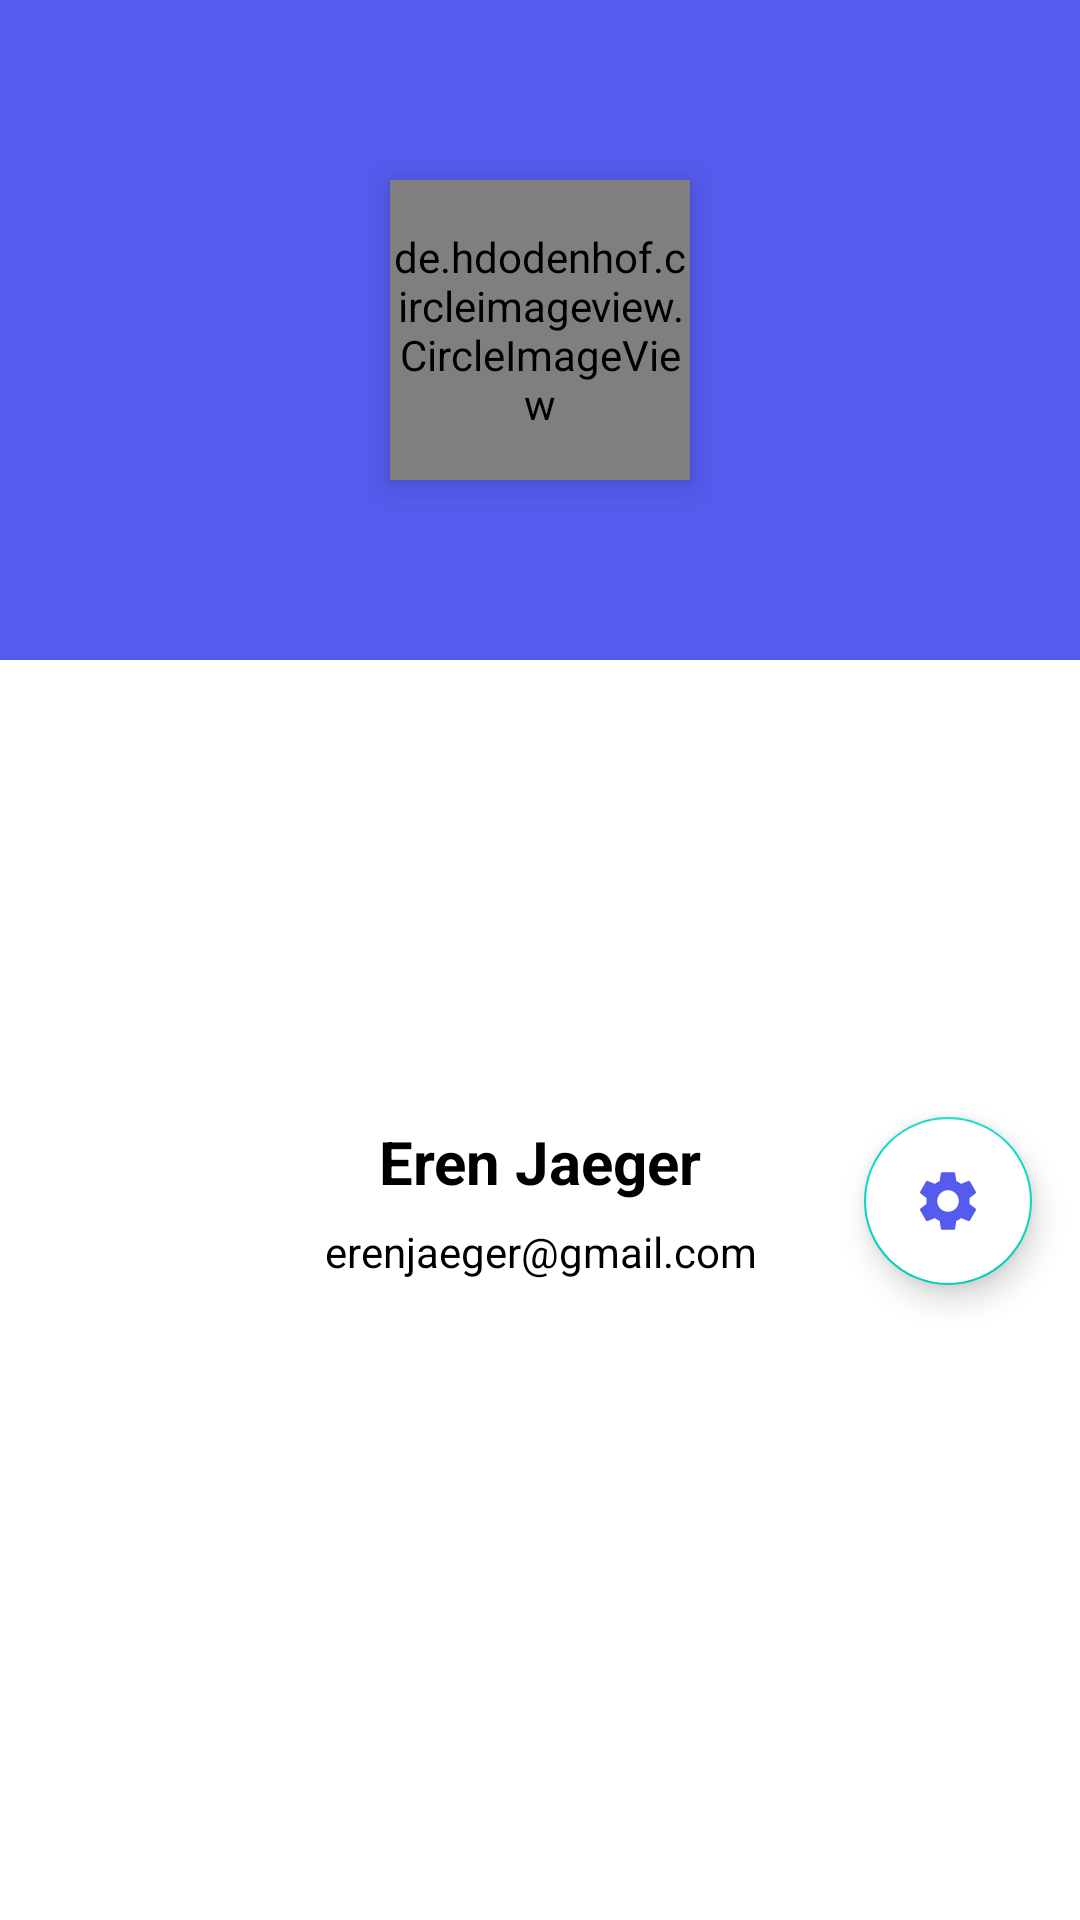

Named icons in this screenshot (1080*1920) and their bounding boxes, [x1, y1, x2, y2]:
settings: [864, 1117, 1032, 1285]
